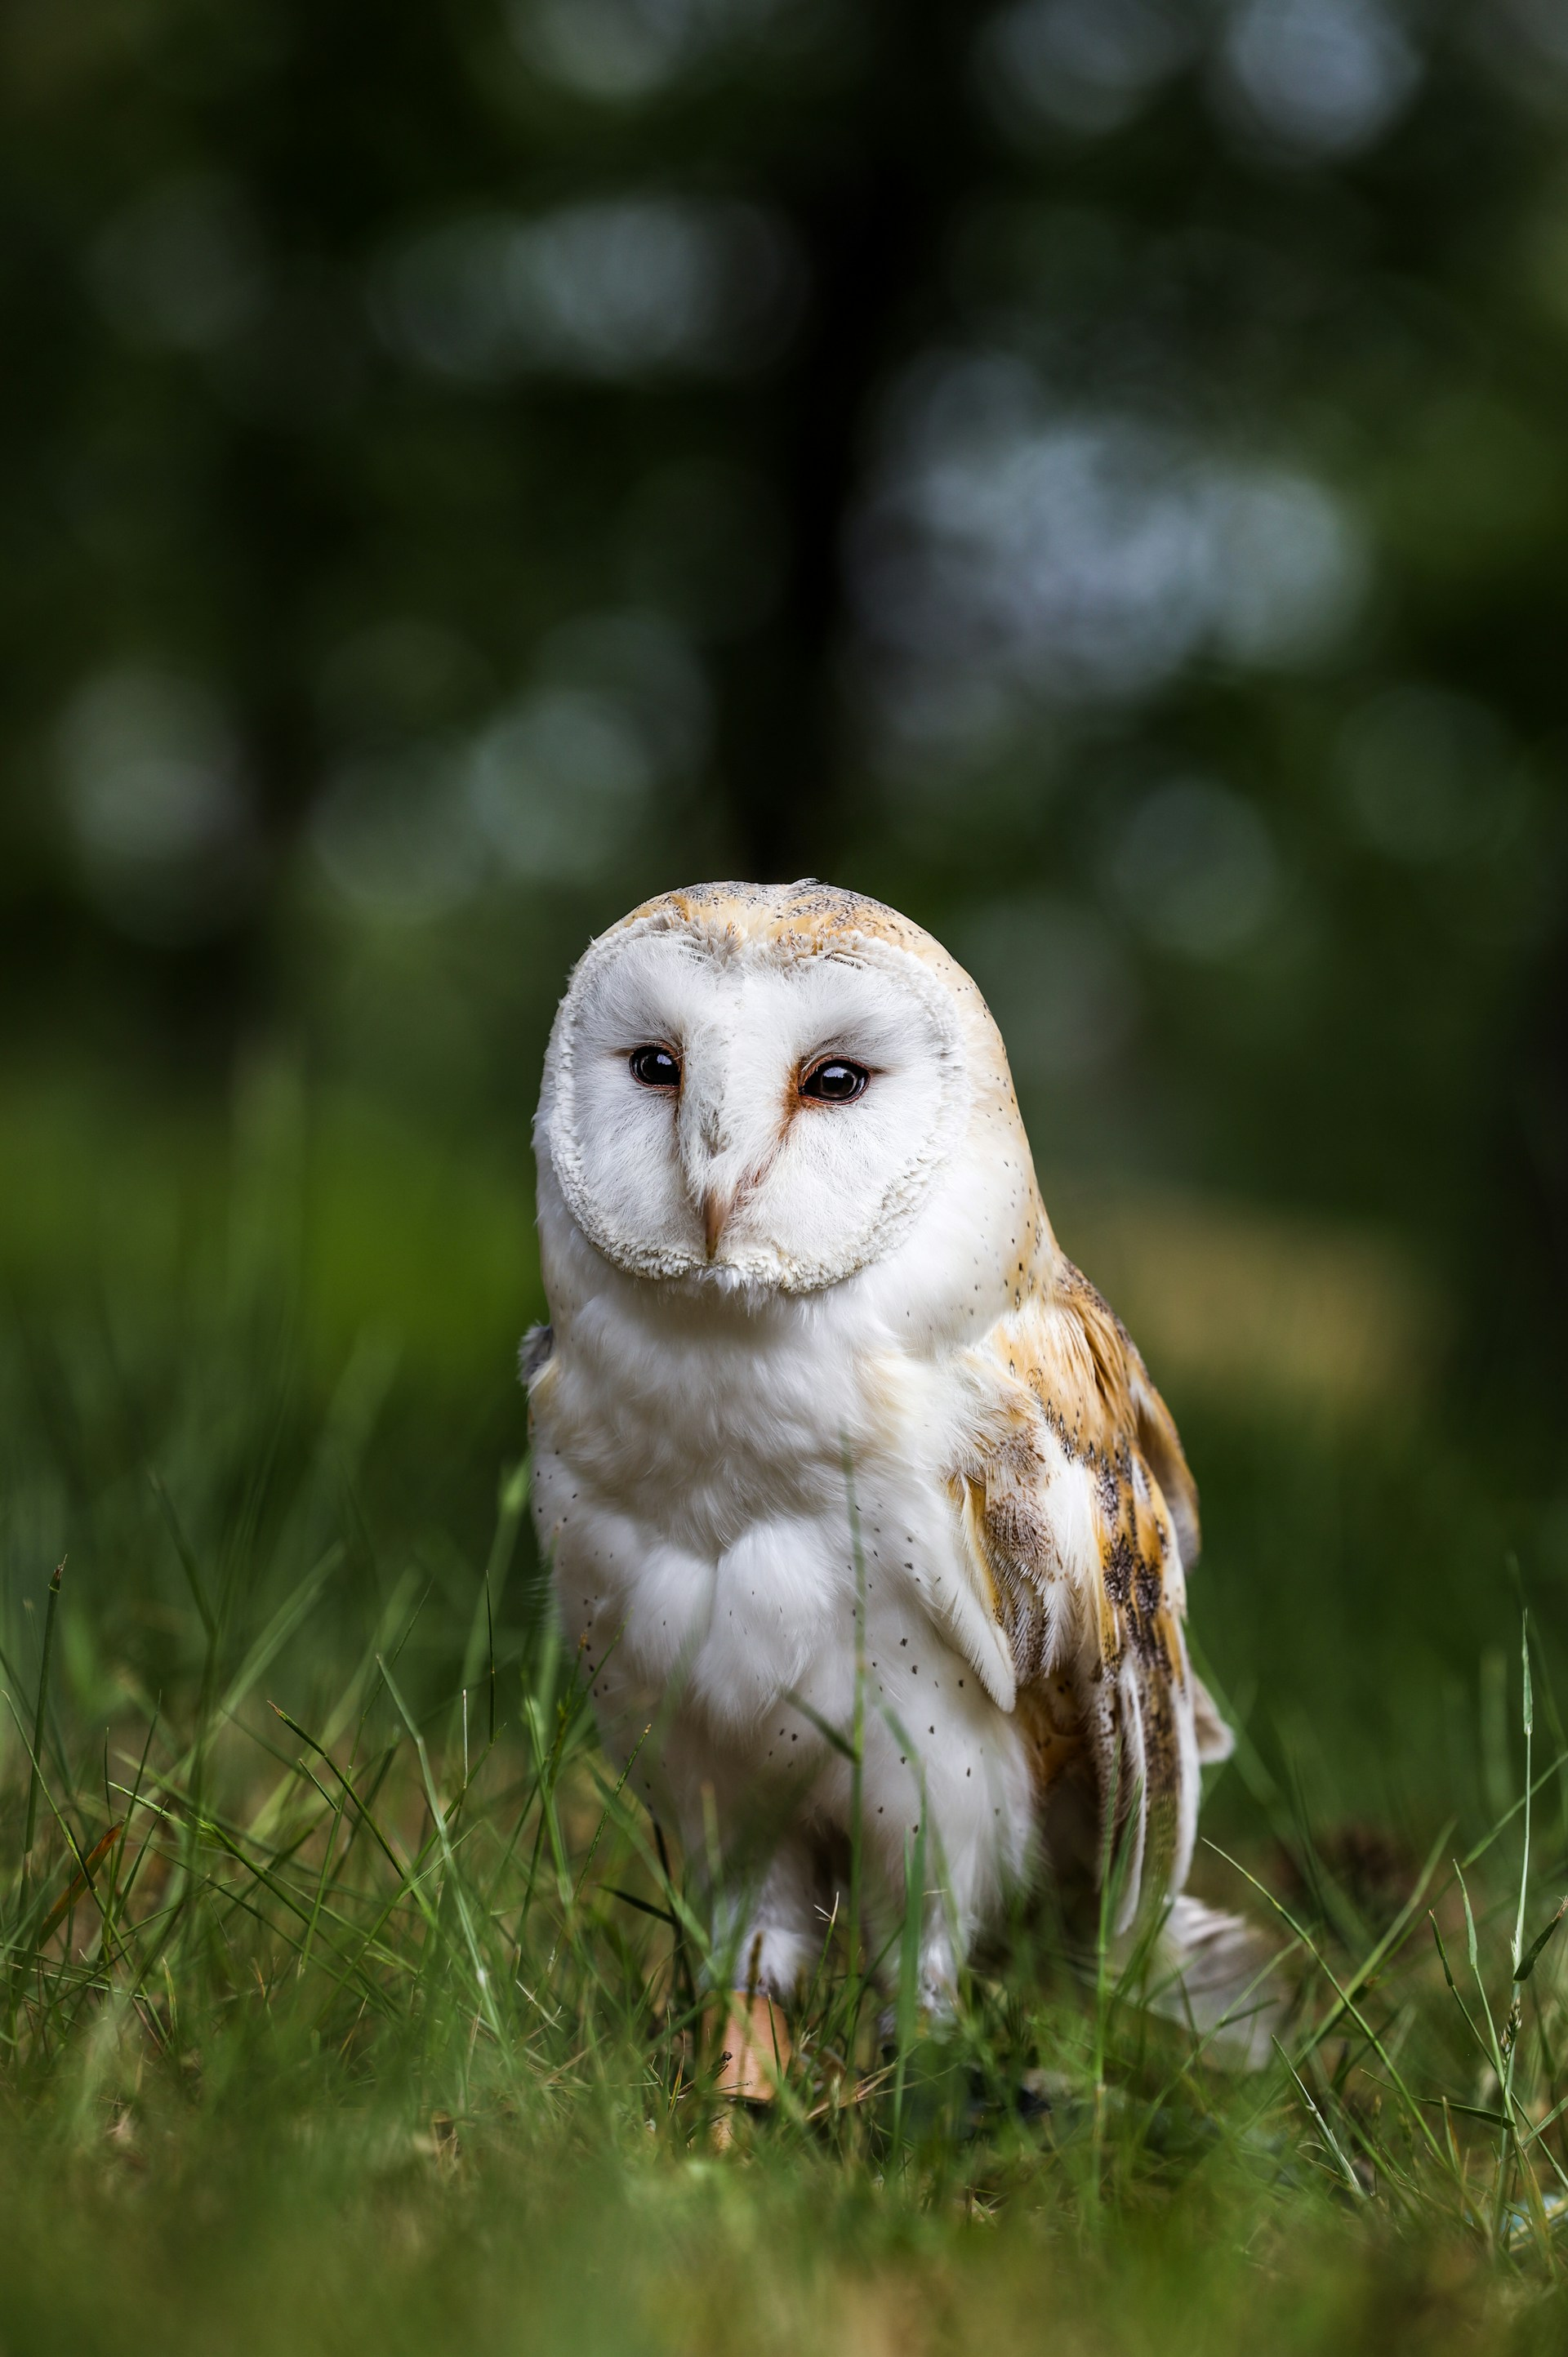owl: (492, 861, 1283, 2140)
